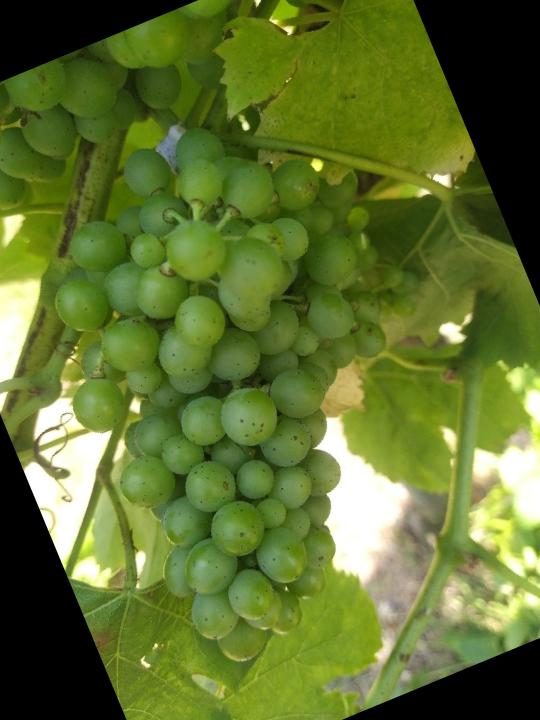grape: (0, 72, 513, 691)
